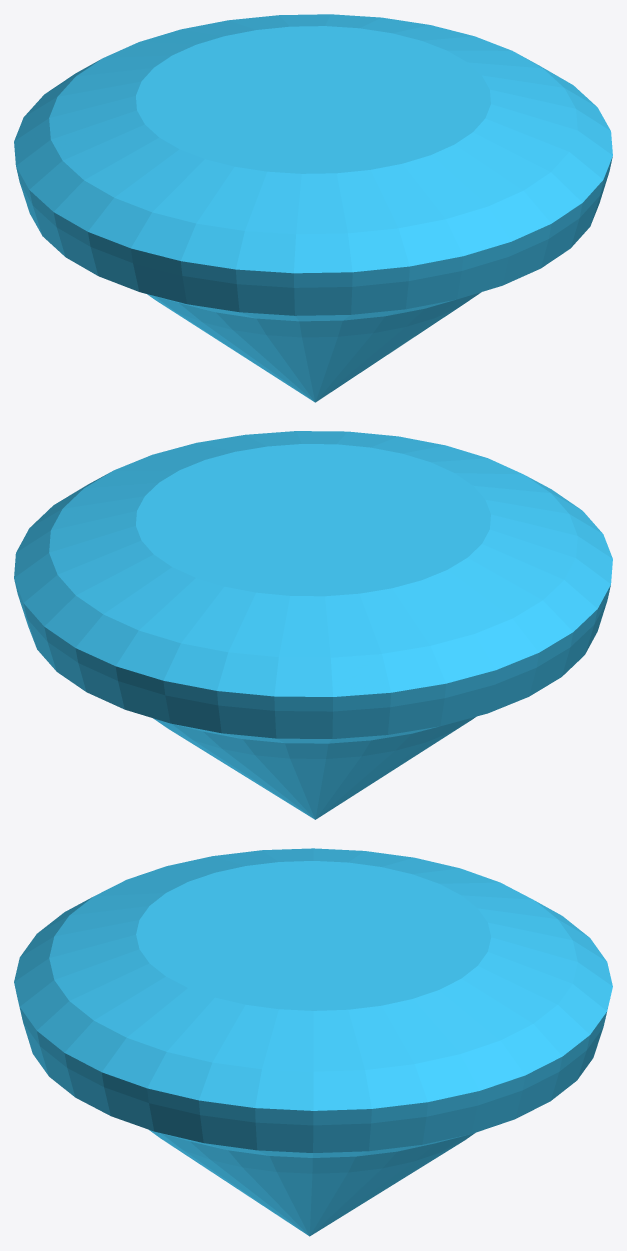
Rendered from SM_Collectable_00.fbx.
3 views of the same model, one above another, from view 1: azimuth 30°, elevation 25°; view 2: azimuth 150°, elevation 25°; view 3: azimuth 270°, elevation 25° (orthographic).
Parts seen in each view (by area): view 1: Cone; view 2: Cone; view 3: Cone.
Part boxes in pixels (bbox=[...]): Cone: bbox=[14, 14, 612, 402]; Cone: bbox=[14, 431, 612, 819]; Cone: bbox=[14, 848, 612, 1236].
Bounding box in the file's own units: 263 × 146 × 263.
